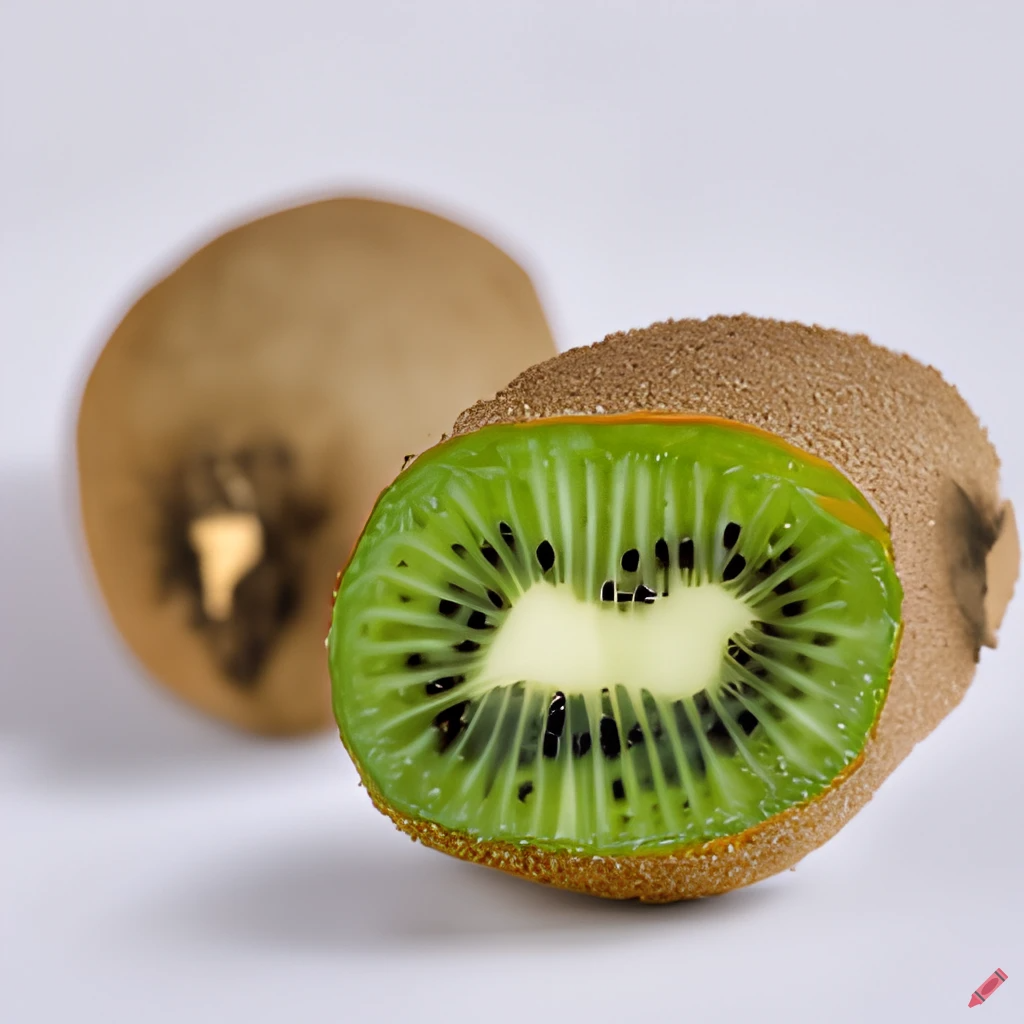Kiwi: (337, 279, 1004, 870)
